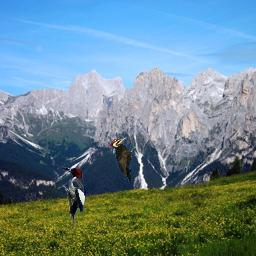Woodpecker: (62, 167, 86, 227), (108, 137, 136, 184)
